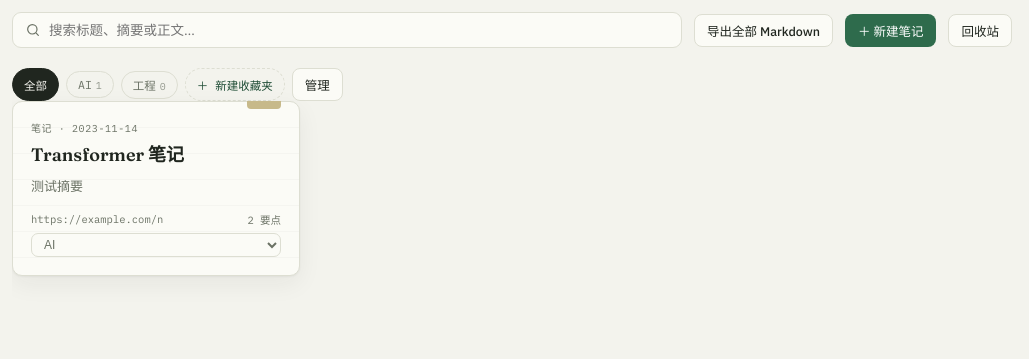
it: LibraryView › 桌面版点击导出走原生「另存为」并回显保存路径
Expected: the heading "Transformer 笔记" is shown, [31,143,184,166]
Click the link "导出全部 Markdown": x=764, y=30 [694,14,833,46]
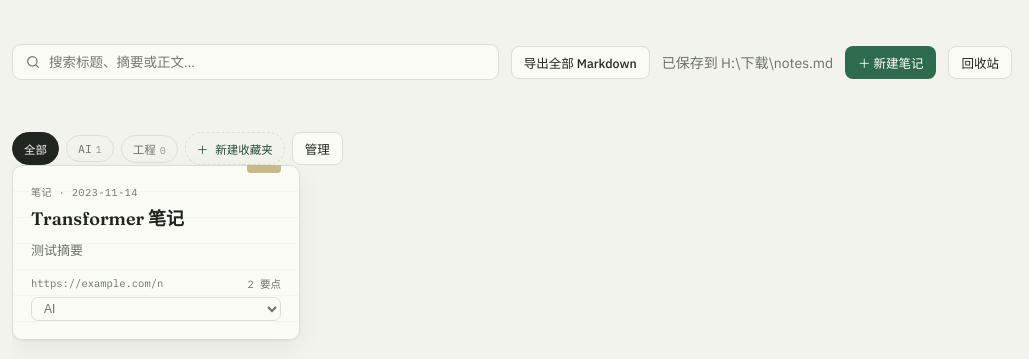
Expected: the text "已保存到 H:\\下载\\notes.md" is shown, [662,54,833,72]
